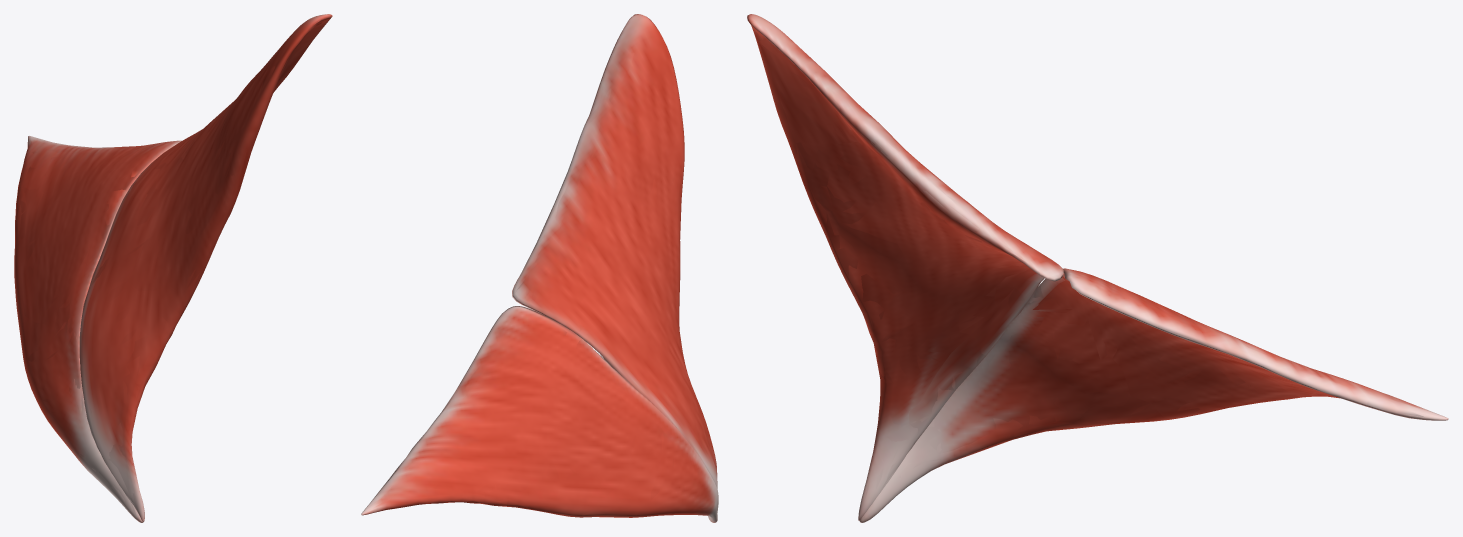
File: R Trapezius.fbx
The picture shows the model from 3 angles, left to right: view 1: azimuth 30°, elevation 25°; view 2: azimuth 150°, elevation 25°; view 3: azimuth 270°, elevation 25°; orthographic projection. The views are drawn at different scales.
Visible parts, largest first — view 1: R Trapezius, R Trapezius low; view 2: R Trapezius, R Trapezius low; view 3: R Trapezius low, R Trapezius.
Boxes of the visible parts, <box> form: R Trapezius: <box>14,14,332,522</box>; R Trapezius low: <box>14,15,329,518</box>; R Trapezius: <box>361,14,718,522</box>; R Trapezius low: <box>363,14,718,521</box>; R Trapezius low: <box>749,15,1442,521</box>; R Trapezius: <box>747,14,1448,522</box>.
Bounding box in the file's own units: 22.4 × 58.82 × 64.48.
